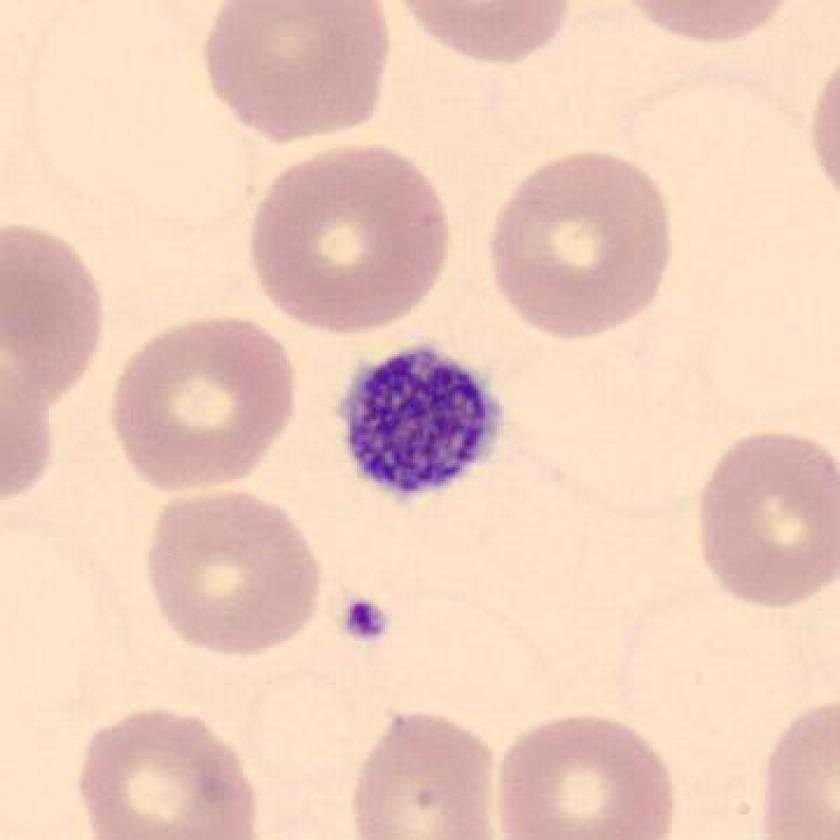platelets: (328, 335, 519, 506), (328, 582, 405, 658)
